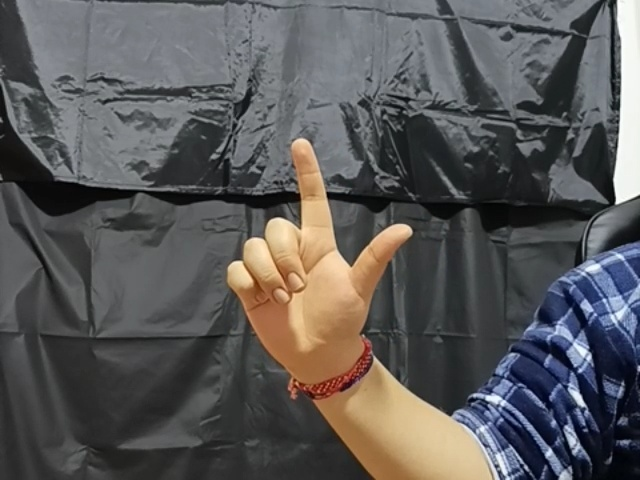L: (221, 138, 411, 362)
